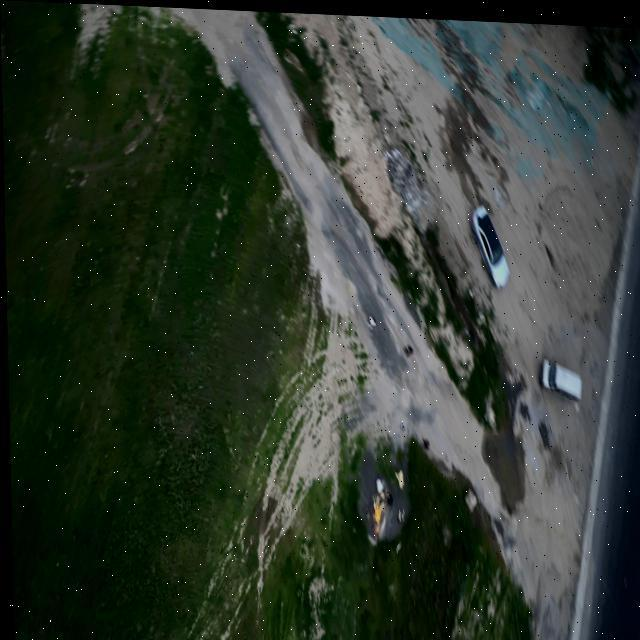Fire: (353, 469, 402, 542)
